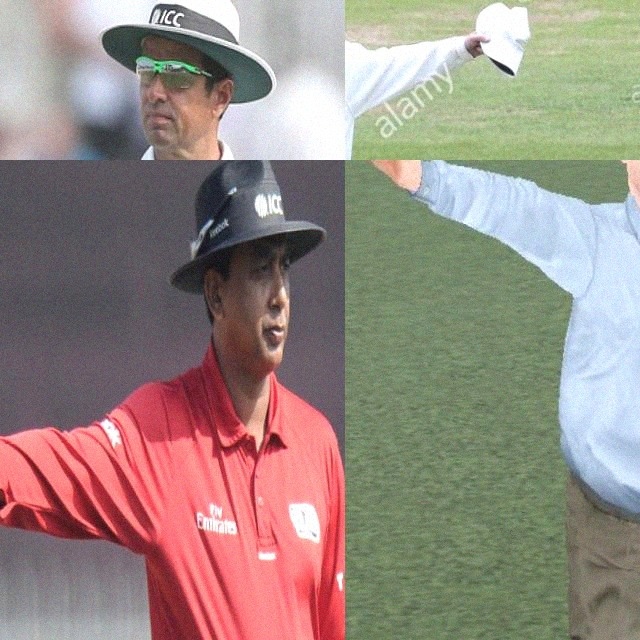No_Action: (3, 0, 345, 160)
No_Ball: (0, 160, 345, 640), (345, 160, 640, 640)
Wide: (345, 0, 612, 160)
